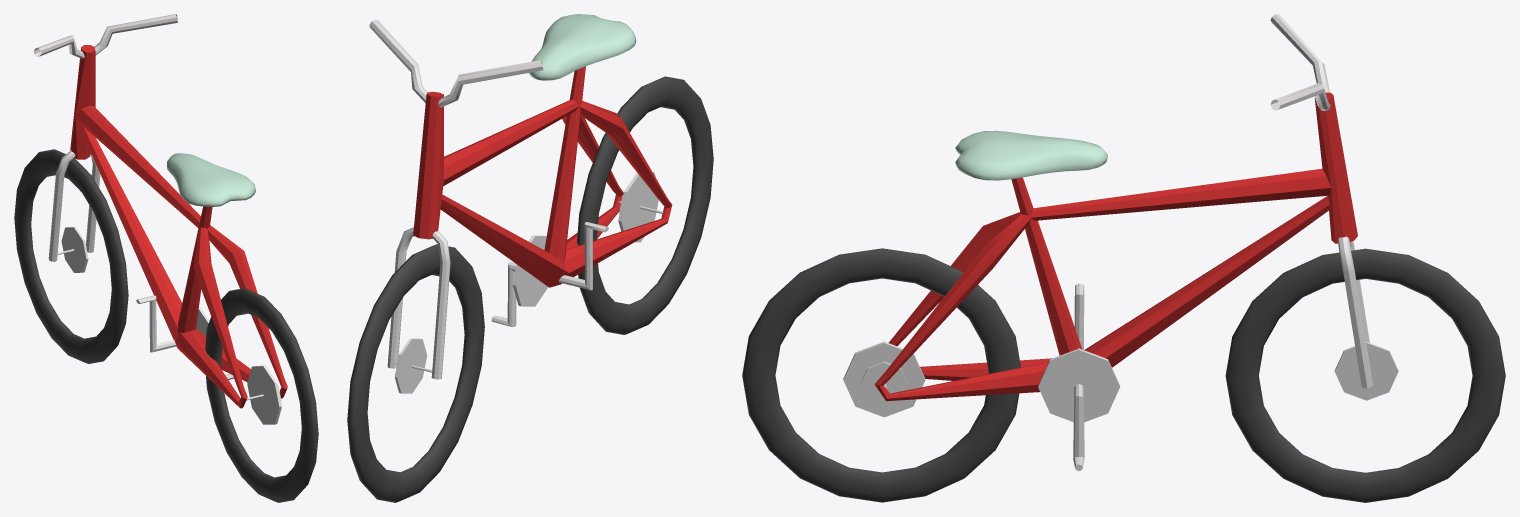
File: bici.fbx
The picture shows the model from 3 angles, left to right: view 1: azimuth 30°, elevation 25°; view 2: azimuth 150°, elevation 25°; view 3: azimuth 270°, elevation 25°; orthographic projection. The views are drawn at different scales.
Visible parts, largest first — view 1: polySurface2, pTorus1, pTorus2, pCube1, pasted__pCylinder7, pCylinder4, pasted__pCylinder8, pCylinder6, polySurface3; view 2: polySurface2, pTorus1, pTorus2, pCube1, pasted__pCylinder7, pasted__pCylinder8, polySurface3, pCylinder4, pCylinder6, pCylinder9; view 3: polySurface2, pTorus1, pTorus2, pCube1, pCylinder9, pCylinder4, pCylinder6, pasted__pCylinder7, pasted__pCylinder8, polySurface3, pCylinder7.
Part boxes in pixels (x1=…): polySurface2: x1=70, y1=45, x2=287, y2=408; pTorus1: x1=14, y1=149, x2=128, y2=363; pTorus2: x1=205, y1=288, x2=318, y2=502; pCube1: x1=167, y1=153, x2=255, y2=206; pasted__pCylinder7: x1=48, y1=150, x2=100, y2=261; pCylinder4: x1=247, y1=365, x2=281, y2=424; pasted__pCylinder8: x1=33, y1=14, x2=178, y2=58; pCylinder6: x1=61, y1=227, x2=88, y2=272; polySurface3: x1=136, y1=295, x2=233, y2=379; polySurface2: x1=413, y1=66, x2=672, y2=287; pTorus1: x1=347, y1=244, x2=484, y2=502; pTorus2: x1=577, y1=76, x2=713, y2=334; pCube1: x1=529, y1=14, x2=636, y2=80; pasted__pCylinder7: x1=387, y1=227, x2=450, y2=379; pasted__pCylinder8: x1=369, y1=20, x2=543, y2=107; polySurface3: x1=491, y1=222, x2=608, y2=326; pCylinder4: x1=618, y1=172, x2=658, y2=242; pCylinder6: x1=394, y1=338, x2=427, y2=393; pCylinder9: x1=512, y1=235, x2=548, y2=306; polySurface2: x1=874, y1=92, x2=1357, y2=401; pTorus1: x1=1225, y1=248, x2=1505, y2=502; pTorus2: x1=742, y1=248, x2=1020, y2=502; pCube1: x1=955, y1=130, x2=1107, y2=180; pCylinder9: x1=1038, y1=348, x2=1120, y2=422; pCylinder4: x1=843, y1=341, x2=925, y2=417; pCylinder6: x1=1334, y1=341, x2=1398, y2=400; pasted__pCylinder7: x1=1337, y1=236, x2=1372, y2=388; pasted__pCylinder8: x1=1270, y1=14, x2=1330, y2=110; polySurface3: x1=1073, y1=283, x2=1084, y2=470; pCylinder7: x1=860, y1=361, x2=907, y2=405.
Size of the model in its own units: 1.85 by 4.31 by 6.68.
